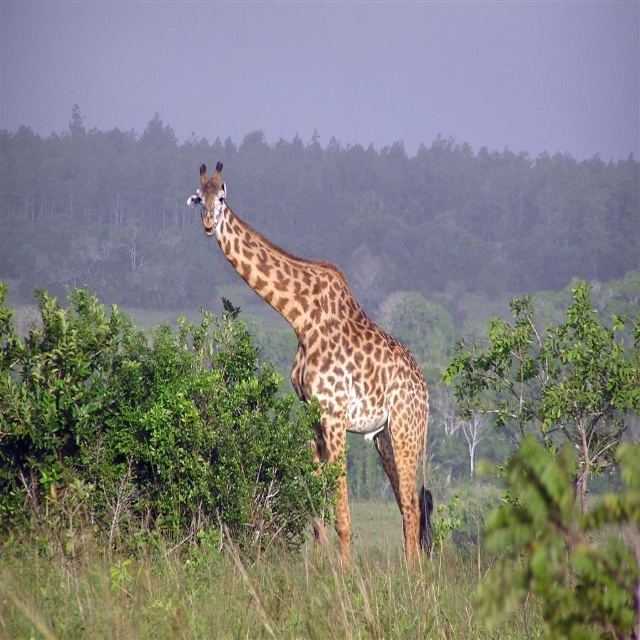Giraffe: (188, 160, 432, 581)
